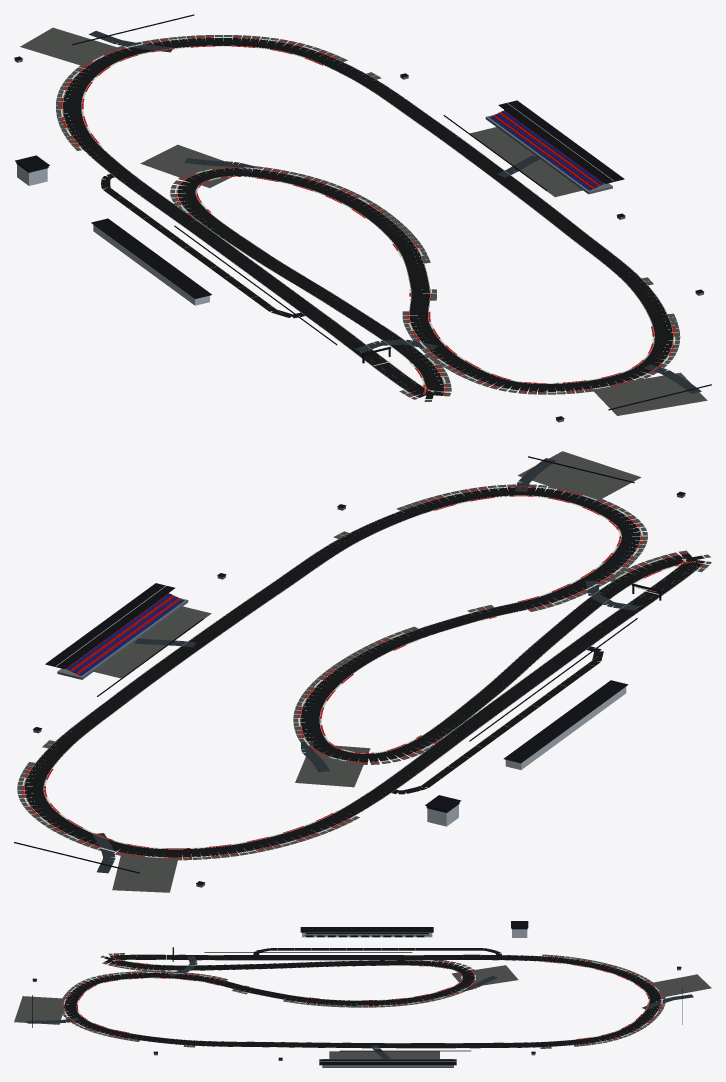
Rendered from APEX_TrackEnvironment.obj.
3 renders of one model, top to bottom at view 1: azimuth 30°, elevation 25°; view 2: azimuth 150°, elevation 25°; view 3: azimuth 270°, elevation 25°, orthographic. The views are drawn at different scales.
Size of the model in its own units: 476 by 16.77 by 1008.
